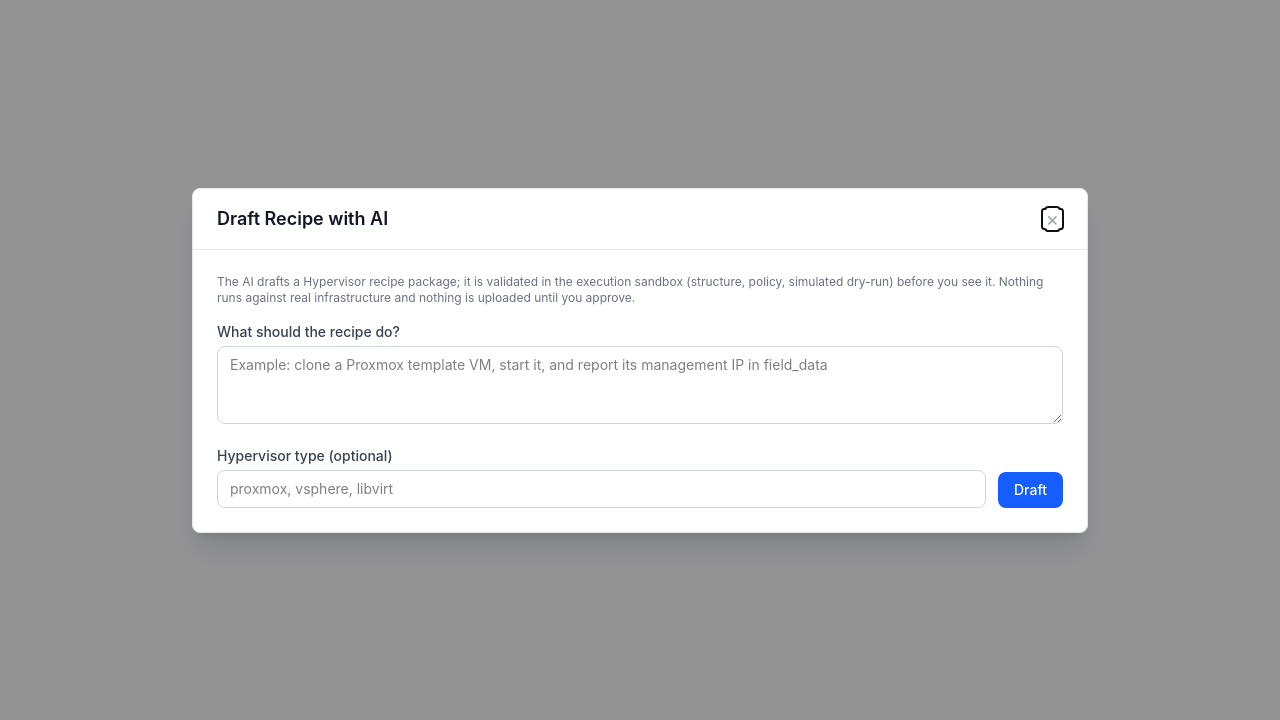
RecipeDraftPanel › renders the draft, validation verdict, and code after drafting
Replace the text in the text box labelled "What should the recipe do?" with "clone a proxmox vm" at (640, 384), box [217, 346, 1063, 424]
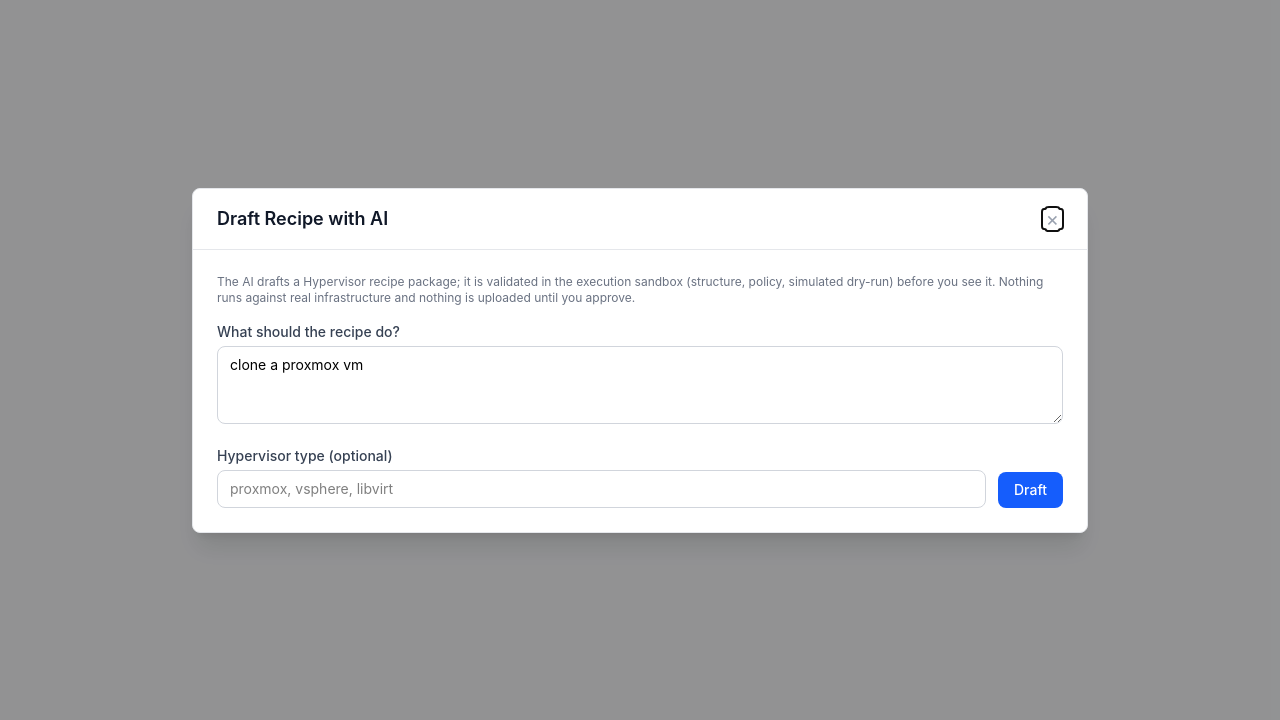
Click the button "Draft" at (1030, 490), box [998, 472, 1063, 508]
(page scrolled)
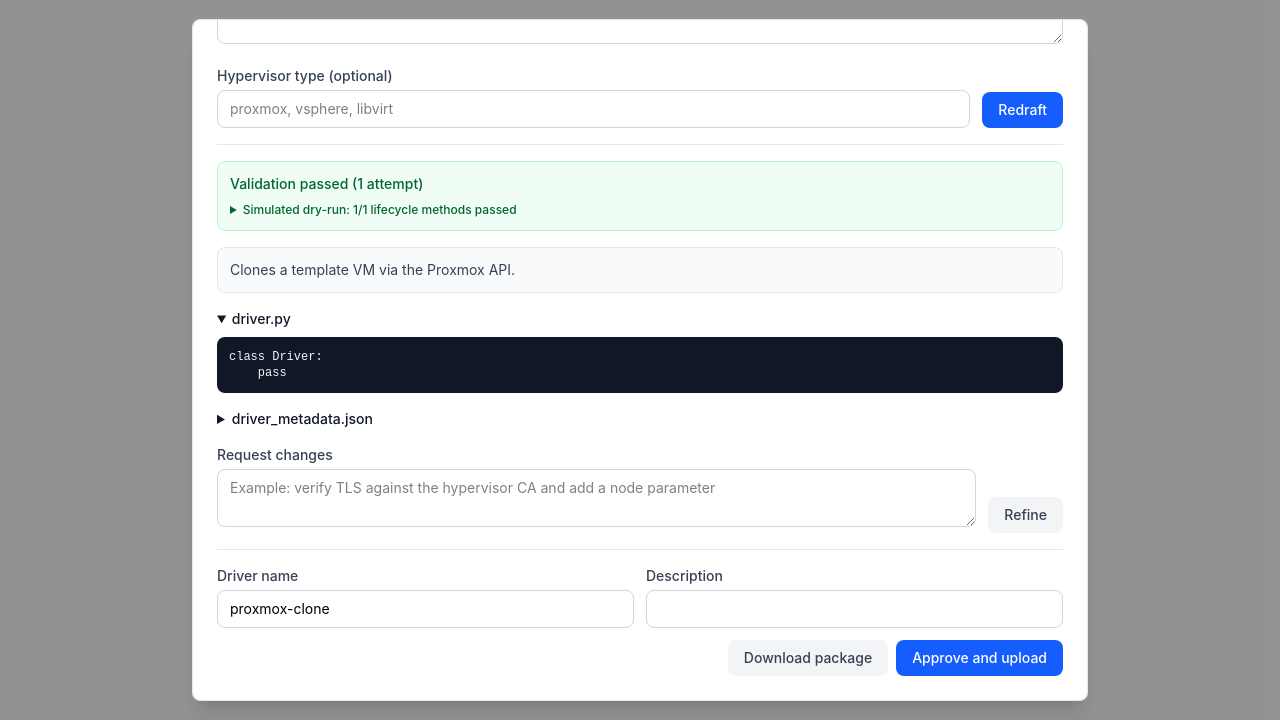
Expected: the text "Validation passed (1 attempt)" is shown, [230, 175, 423, 192]
Expected: the text "class Driver: pass" is shown, [217, 337, 1063, 393]
Expected: the text "Clones a template VM via the Proxmox API." is shown, [217, 247, 1063, 293]
